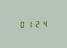four: (39, 19, 45, 27)
one: (25, 20, 31, 28)
two: (32, 20, 38, 27)
zero: (18, 20, 24, 28)
